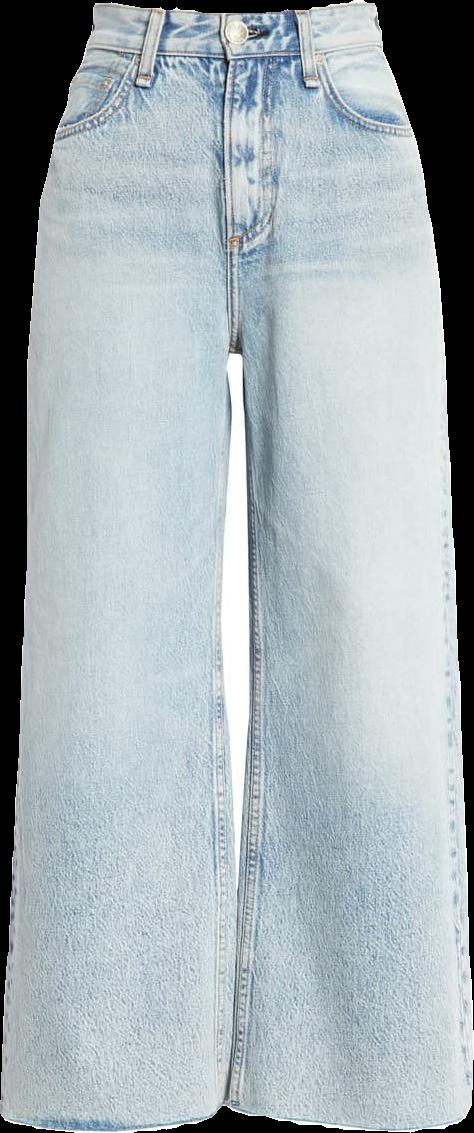Hemline: (225, 1098, 473, 1132), (0, 1096, 235, 1131)
Pantleg: (218, 1, 472, 1129), (1, 2, 233, 1132)
Waistline: (81, 38, 387, 65), (92, 0, 379, 26)
